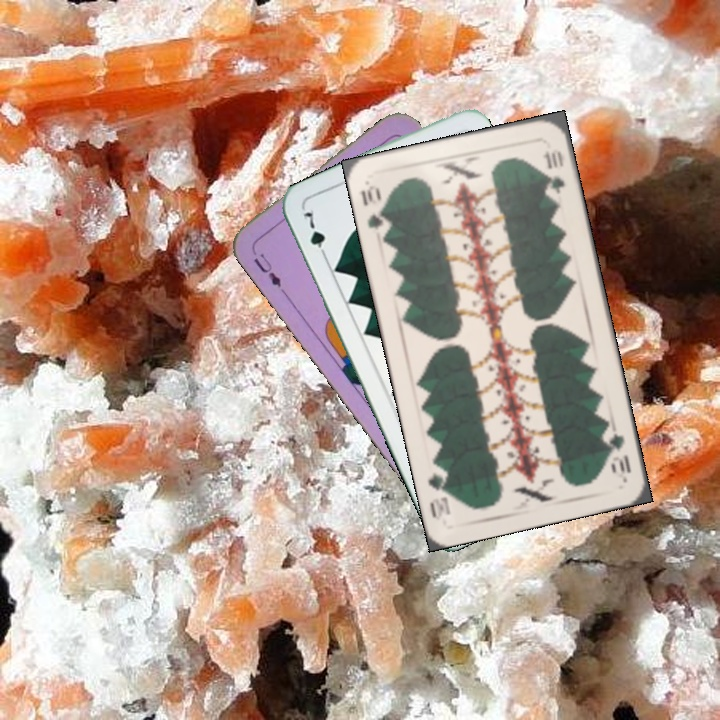EU: (249, 249, 284, 290)
G10: (356, 181, 392, 237), (600, 422, 634, 476)
G7: (299, 205, 331, 262)
